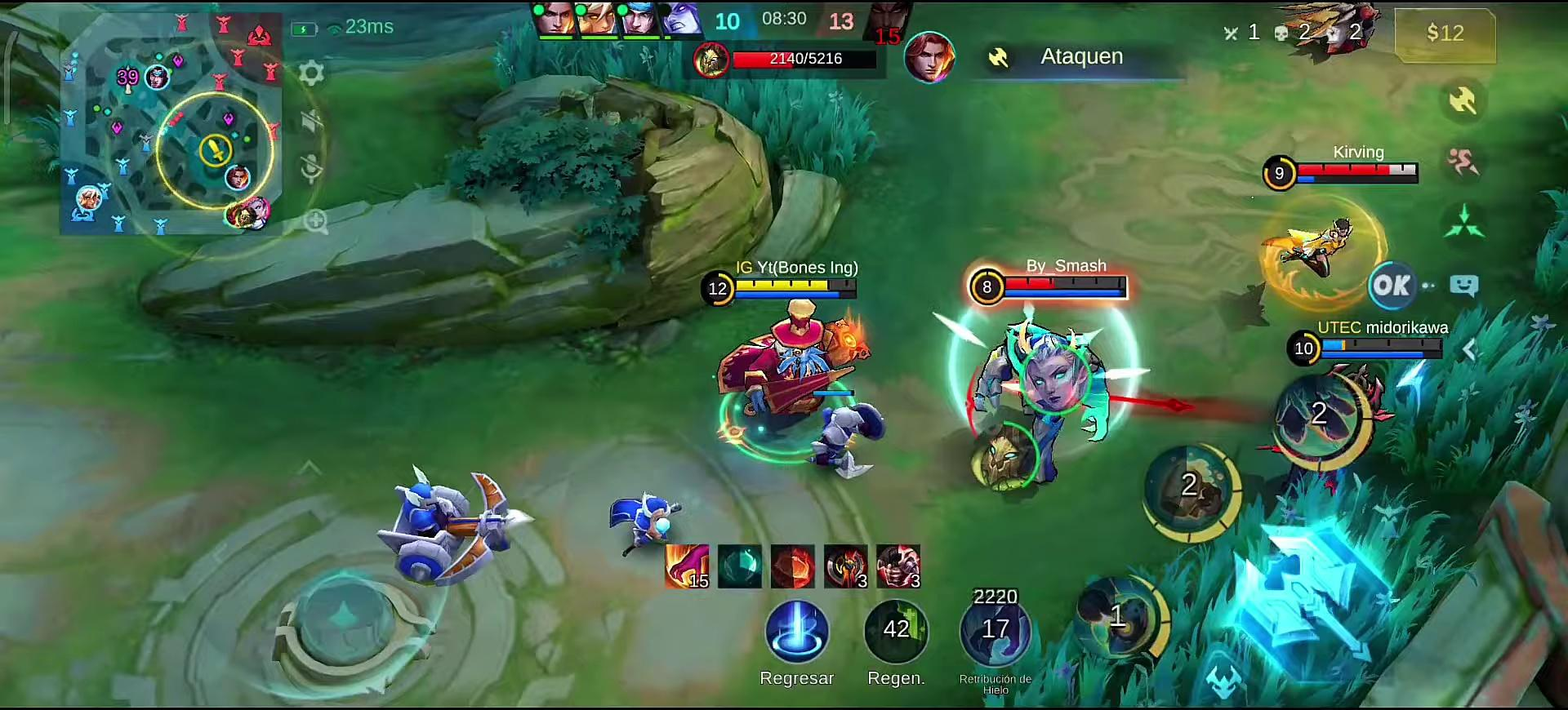Adc_Aliado: (248, 211, 268, 229)
Arbusto: (981, 472, 1455, 705), (496, 23, 884, 183), (1369, 309, 1560, 505), (1538, 191, 1568, 301)
Bane: (713, 299, 873, 426)
Belerick: (966, 321, 1106, 491)
Esbirro_Aliado: (381, 468, 534, 588), (817, 400, 886, 474), (613, 494, 681, 547)
Eudora: (1263, 213, 1353, 279)
Exp_Aliado: (144, 62, 170, 90)
HP_Aliado: (1322, 336, 1444, 352)
HP_Enemigo: (1293, 162, 1420, 176), (1006, 277, 1125, 289)
HP_Heroe_Principal: (738, 279, 854, 289)
Jungla_Aliado: (227, 202, 241, 225)
Mana: (731, 288, 859, 299), (1005, 288, 1127, 299), (1324, 348, 1444, 359), (1292, 176, 1417, 184)
Mid_Aliado: (73, 188, 105, 209)
Mid_Enemigo: (249, 197, 270, 218)
Minimapa: (58, 11, 284, 235)
Roamer_Aliado: (225, 165, 252, 194)
Roamer_Enemigo: (237, 206, 259, 229)
Torre_destruida: (272, 572, 436, 692)
